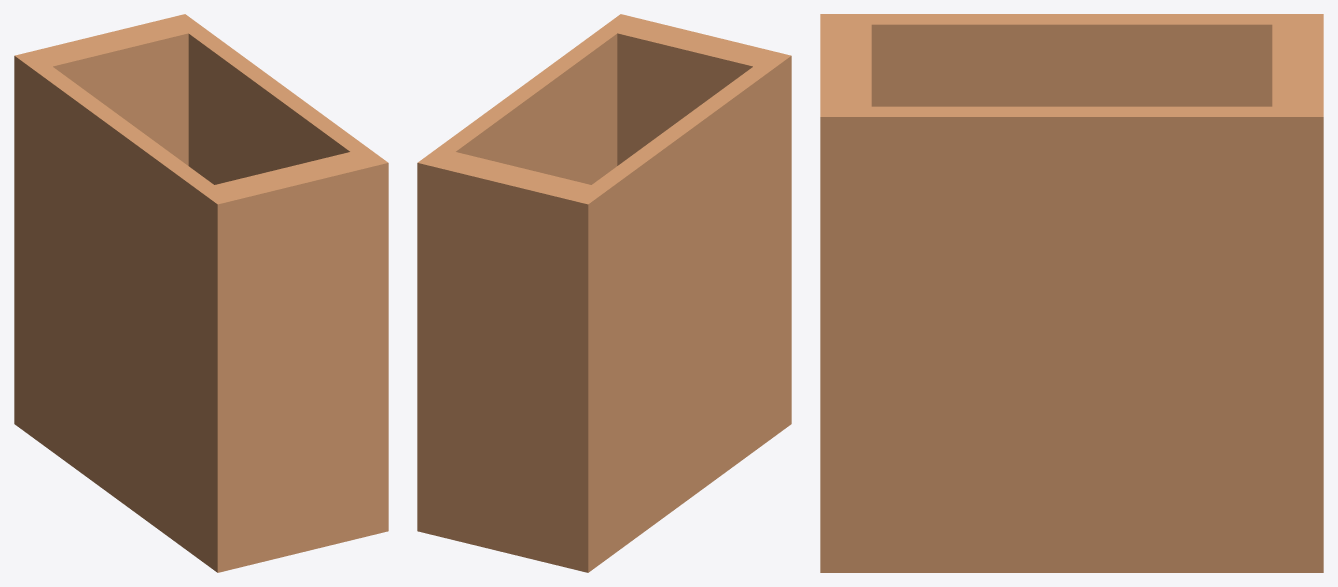
Rendered from playerBox.fbx.
3 renders of one model, left to right at view 1: azimuth 30°, elevation 25°; view 2: azimuth 150°, elevation 25°; view 3: azimuth 270°, elevation 25°, orthographic. The views are drawn at different scales.
Visible parts, largest first — view 1: Cube; view 2: Cube; view 3: Cube.
Part boxes in pixels (x1,y1,x2,y2): Cube: (14, 14, 388, 572); Cube: (417, 14, 791, 572); Cube: (820, 14, 1323, 572).
Bounding box in the file's own units: 97.01 × 200 × 200.
